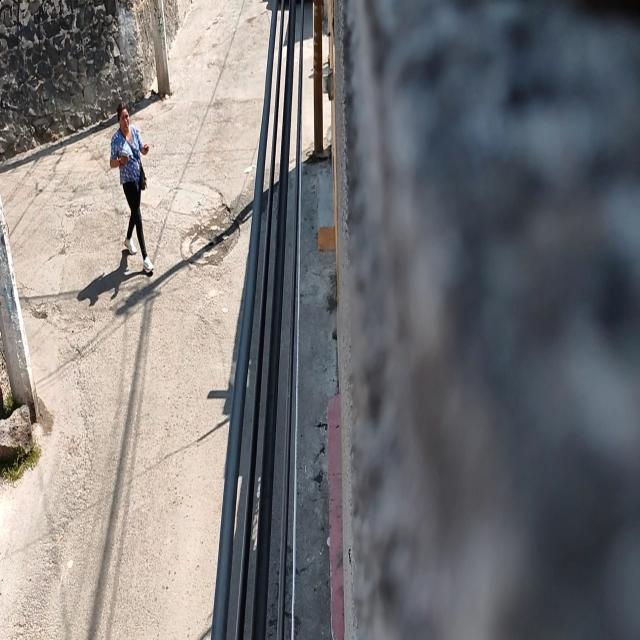adult: (106, 100, 152, 280)
